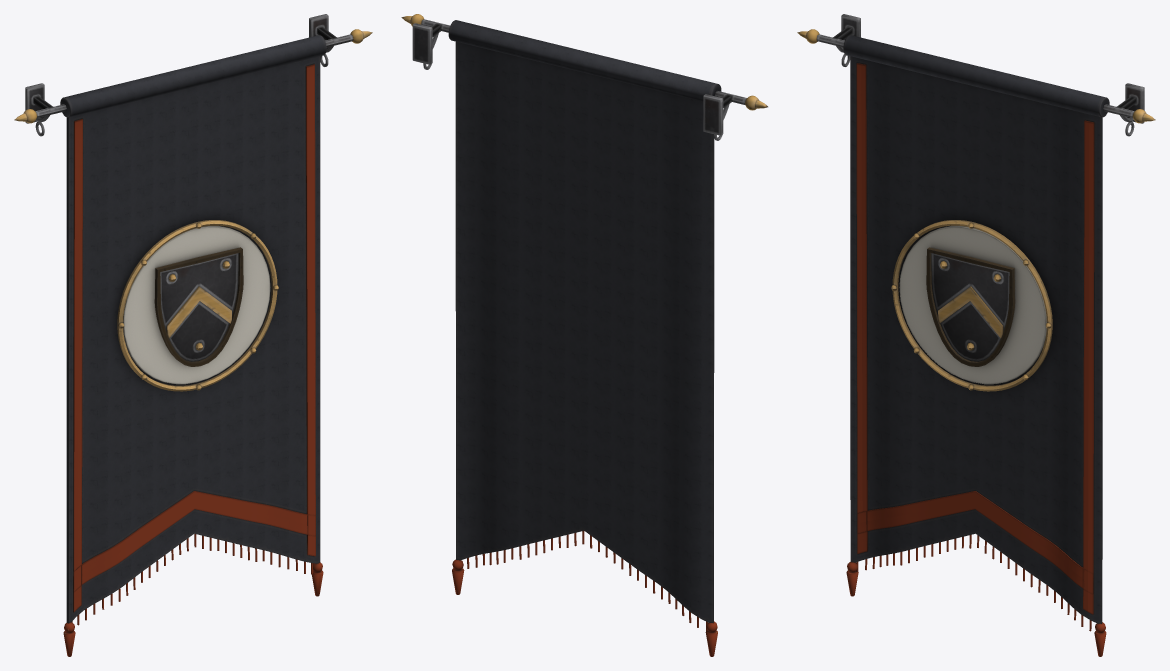
The model's file is BannerWardens.fbx.
3 views of the same model, side by side, from view 1: azimuth 30°, elevation 25°; view 2: azimuth 150°, elevation 25°; view 3: azimuth 330°, elevation 25° (orthographic). The views are drawn at different scales.
Visible parts, largest first — view 1: BannerWardens_Cloth, BannerWardens_Main; view 2: BannerWardens_Cloth, BannerWardens_Main; view 3: BannerWardens_Cloth, BannerWardens_Main.
Boxes of the visible parts, x1,y1,x2,y2 form: BannerWardens_Cloth: (60,35,326,656); BannerWardens_Main: (14,14,372,136); BannerWardens_Cloth: (448,20,721,656); BannerWardens_Main: (401,14,767,140); BannerWardens_Cloth: (843,35,1109,656); BannerWardens_Main: (797,14,1155,136).
Bounding box in the file's own units: 399 × 599 × 49.5.
